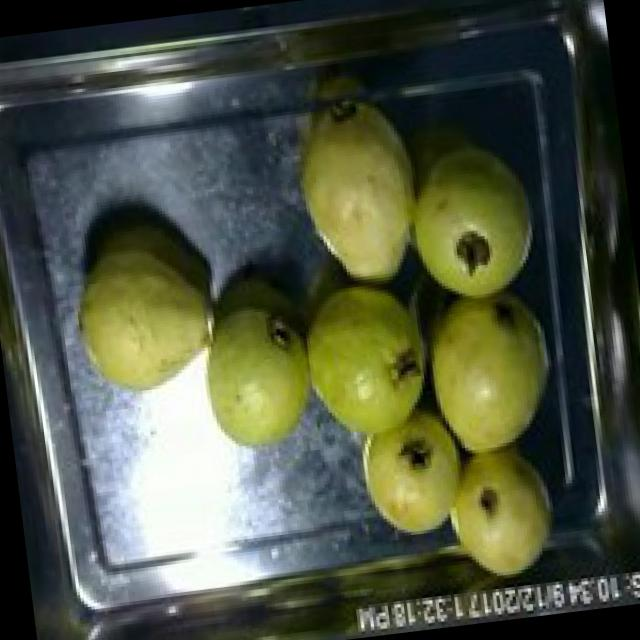Fruit: (49, 192, 238, 408), (278, 88, 442, 306), (174, 245, 324, 467), (421, 257, 572, 466), (396, 133, 554, 324), (295, 260, 441, 456), (342, 382, 492, 554), (428, 430, 568, 598)
